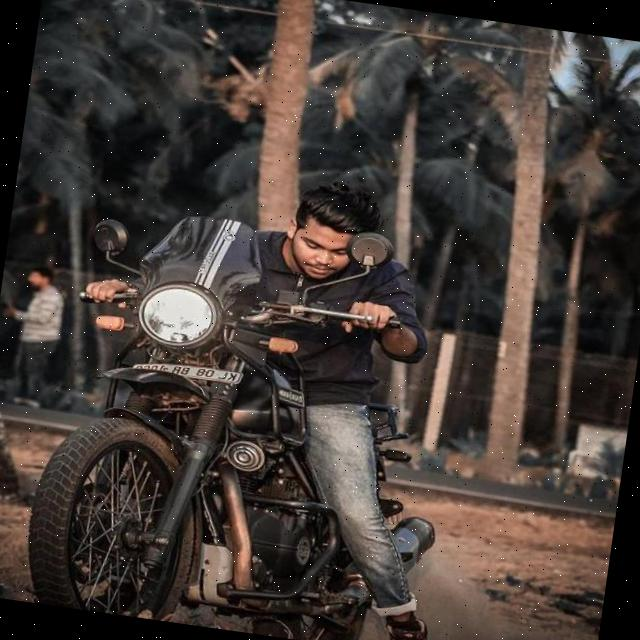No helmet: (280, 174, 368, 285)
